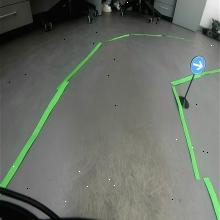right: (190, 54, 206, 76)
